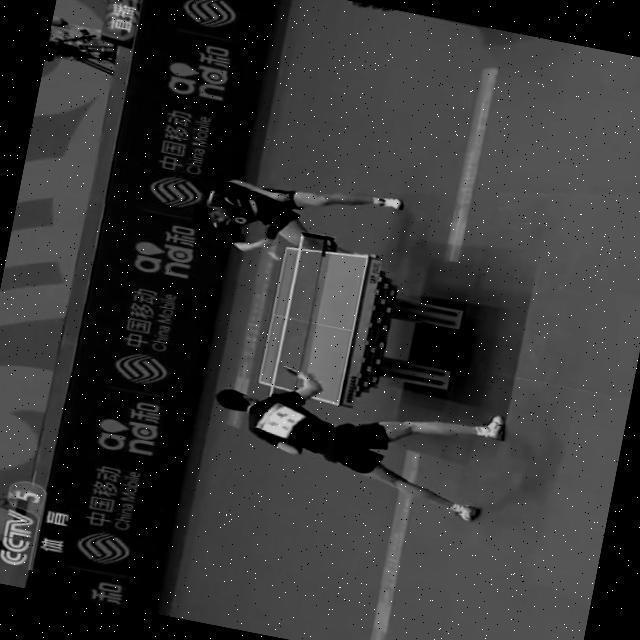ping-pong-ball: (266, 248, 283, 261)
